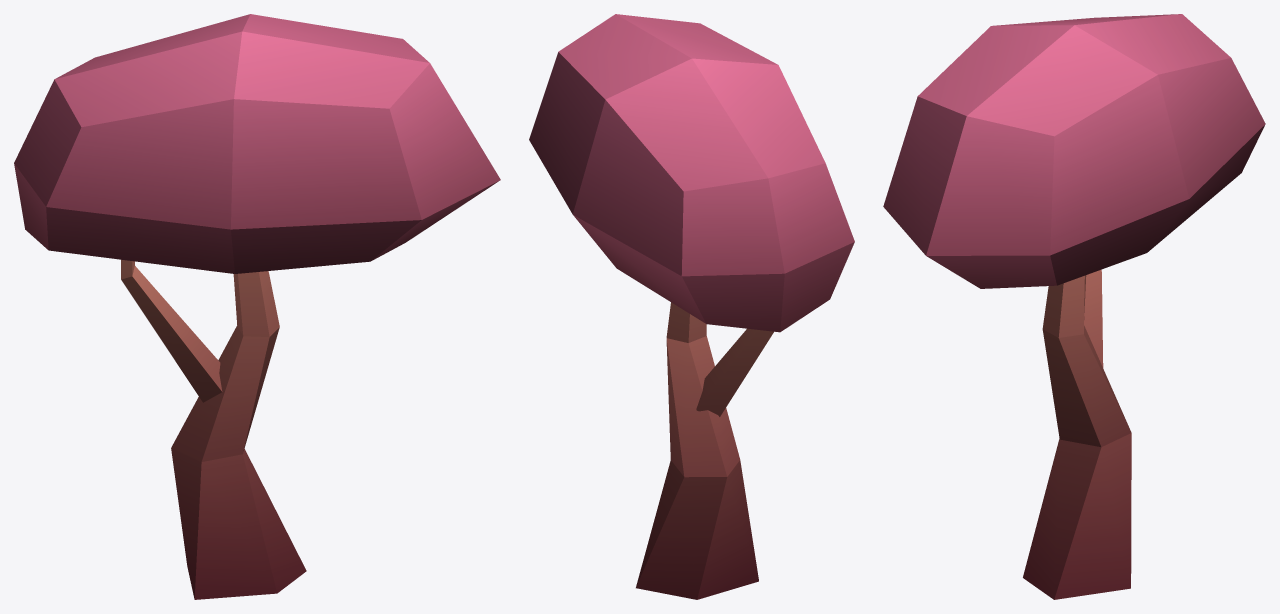
Rendered from Tree_Large.fbx.
3 renders of one model, left to right at view 1: azimuth 30°, elevation 25°; view 2: azimuth 150°, elevation 25°; view 3: azimuth 270°, elevation 25°, orthographic. The views are drawn at different scales.
Visible parts, largest first — view 1: big head; view 2: big head; view 3: big head.
Part boxes in pixels (left/top/right/bottom): big head: left=14, top=14, right=500, bottom=599; big head: left=529, top=14, right=854, bottom=599; big head: left=883, top=14, right=1265, bottom=599.
Bounding box in the file's own units: 1132 × 1599 × 1011.
